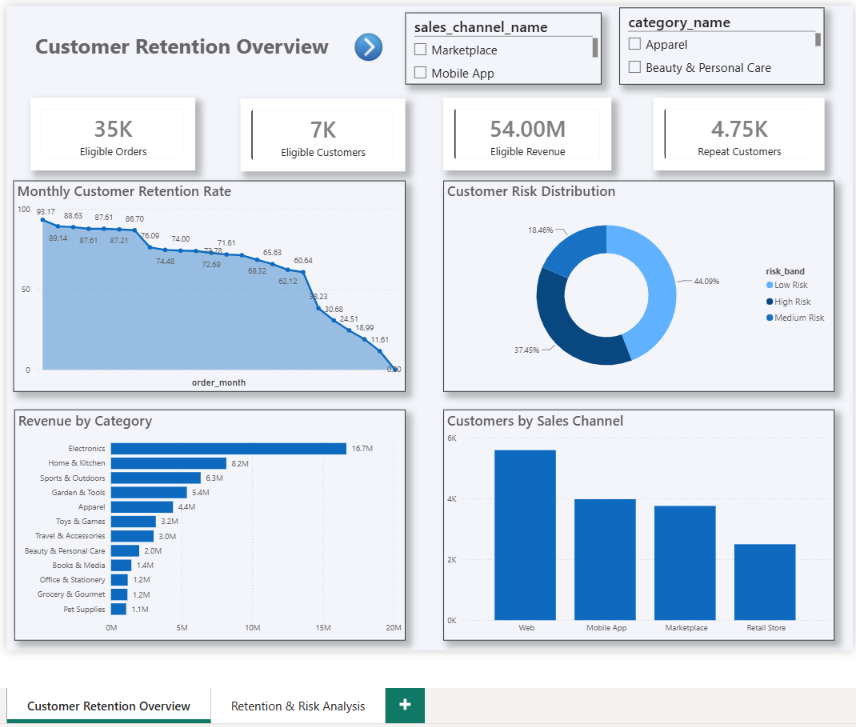

The page's visual inventory and layout, read from the dashboard file:
{"tool":"powerbi","page":{"name":"Customer Retention Overview","canvas":[1301,992],"ordinal":0},"visuals":[{"type":"cardVisual","fields":{"Data":["vw_pbi_kpi_summary.Eligible Customers"]},"box":[360,143.1,253.8,112.3],"z":0},{"type":"cardVisual","fields":{"Data":["vw_pbi_kpi_summary.Eligible Revenue"]},"box":[672.3,141.5,258.5,112.3],"z":1000},{"type":"cardVisual","fields":{"Data":["vw_pbi_kpi_summary.Eligible Orders"]},"box":[36.9,141.5,253.8,112.3],"z":2000},{"type":"cardVisual","fields":{"Data":["vw_pbi_kpi_summary.Repeat Customers"]},"box":[995.4,141.5,263.1,112.3],"z":3000},{"type":"lineChart","title":"Monthly Customer Retention Rate","fields":{"Category":["vw_pbi_monthly_retention.order_month"],"Y":["Avg(vw_pbi_monthly_retention.monthly_repeat_customer_rate)"]},"box":[10.8,269.2,603.1,324.6],"z":4000},{"type":"textbox","box":[20,20,500,87],"z":5000},{"type":"donutChart","title":"Customer Risk Distribution","fields":{"Category":["vw_pbi_customer_risk.risk_band"],"Y":["CountNonNull(vw_pbi_customer_risk.customer_id)"]},"box":[672.3,269.2,601.5,324.6],"z":6000},{"type":"clusteredBarChart","title":"Revenue by Category","fields":{"Category":["vw_pbi_category_performance.category_name"],"Y":["Sum(vw_pbi_category_performance.line_revenue)"]},"box":[12.3,621.5,601.5,355.4],"z":7000},{"type":"clusteredColumnChart","title":"Customers by Sales Channel","fields":{"Y":["Sum(vw_pbi_channel_performance.customers)"],"Category":["vw_pbi_channel_performance.sales_channel_name"]},"box":[672.3,621.5,601.5,355.4],"z":8000},{"type":"slicer","fields":{"Values":["vw_pbi_channel_performance.sales_channel_name"]},"box":[613.8,10.8,301.5,110.8],"z":9000},{"type":"slicer","fields":{"Values":["vw_pbi_category_performance.category_name"]},"box":[943.1,3.1,315.4,118.5],"z":10000},{"type":"image","box":[520,35.4,73.8,56.9],"z":10001}]}

Visuals, with their boxes in screenshot pixels (x1, y1, x2, y2):
cardVisual - vw_pbi_kpi_summary.Eligible Customers: <bbox>238, 97, 403, 170</bbox>
cardVisual - vw_pbi_kpi_summary.Eligible Revenue: <bbox>441, 96, 608, 169</bbox>
cardVisual - vw_pbi_kpi_summary.Eligible Orders: <bbox>28, 96, 193, 169</bbox>
cardVisual - vw_pbi_kpi_summary.Repeat Customers: <bbox>650, 96, 821, 169</bbox>
"Monthly Customer Retention Rate" lineChart: <bbox>11, 179, 403, 390</bbox>
textbox: <bbox>17, 17, 342, 74</bbox>
"Customer Risk Distribution" donutChart: <bbox>441, 179, 831, 390</bbox>
"Revenue by Category" clusteredBarChart: <bbox>12, 408, 403, 638</bbox>
"Customers by Sales Channel" clusteredColumnChart: <bbox>441, 408, 831, 638</bbox>
slicer - vw_pbi_channel_performance.sales_channel_name: <bbox>403, 11, 598, 83</bbox>
slicer - vw_pbi_category_performance.category_name: <bbox>616, 6, 821, 83</bbox>
image: <bbox>342, 27, 390, 64</bbox>
